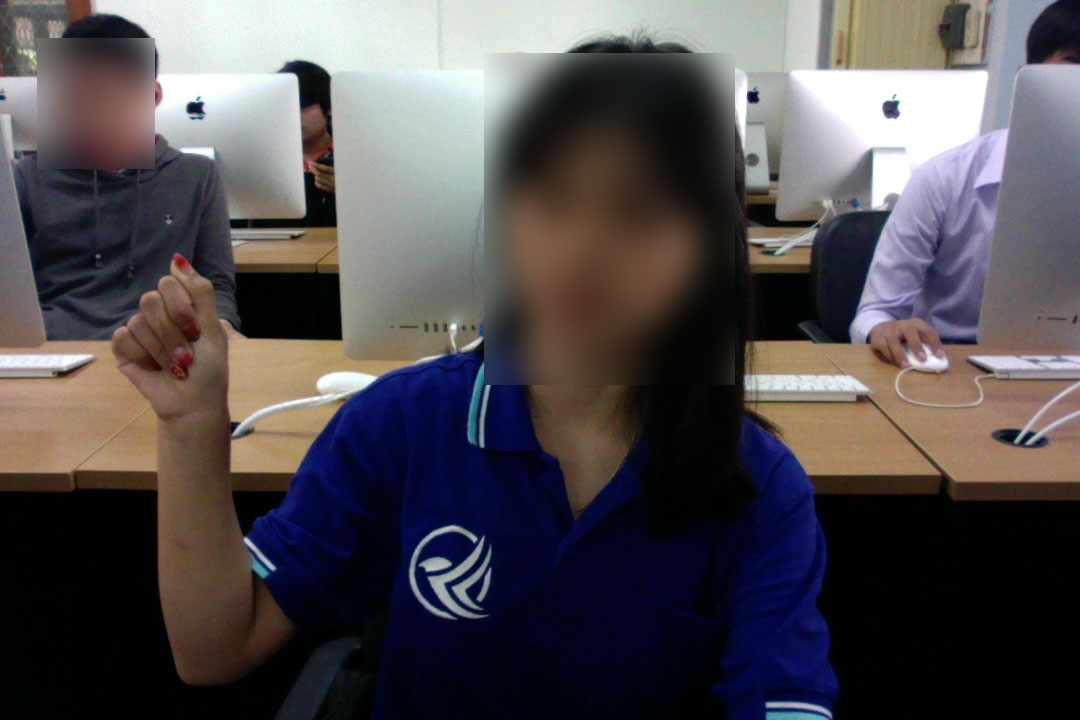or: (105, 245, 241, 440)
